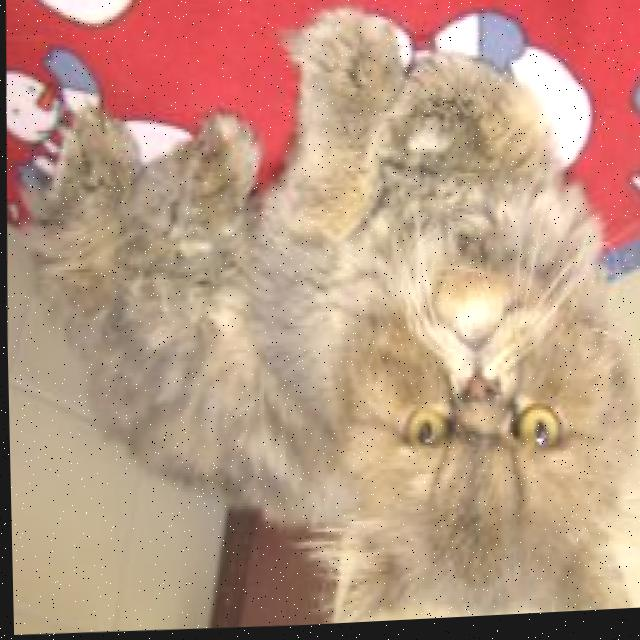Persian: (20, 0, 640, 639)
